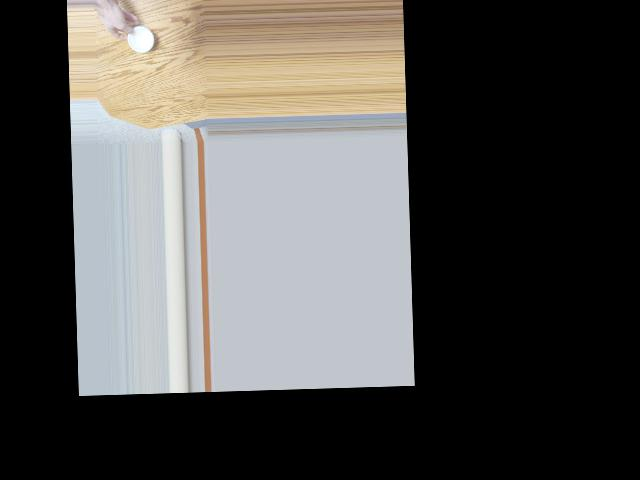cotage: (125, 26, 156, 53)
